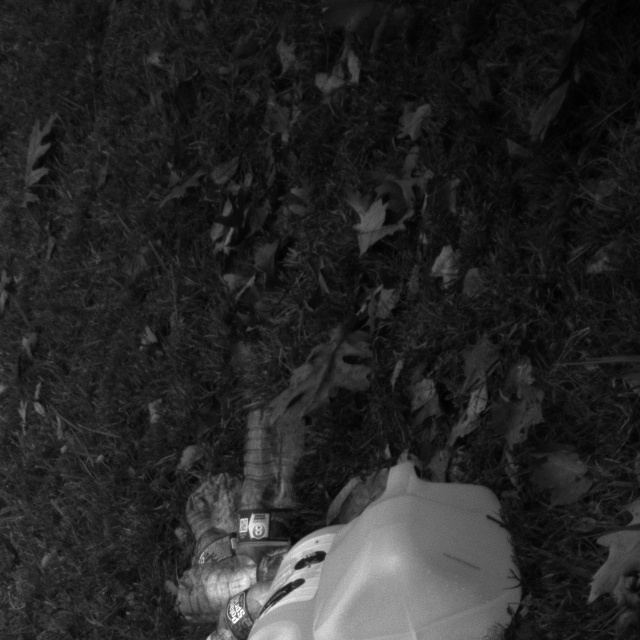bottle: (226, 406, 306, 597)
can: (312, 467, 520, 640), (219, 525, 361, 640)
